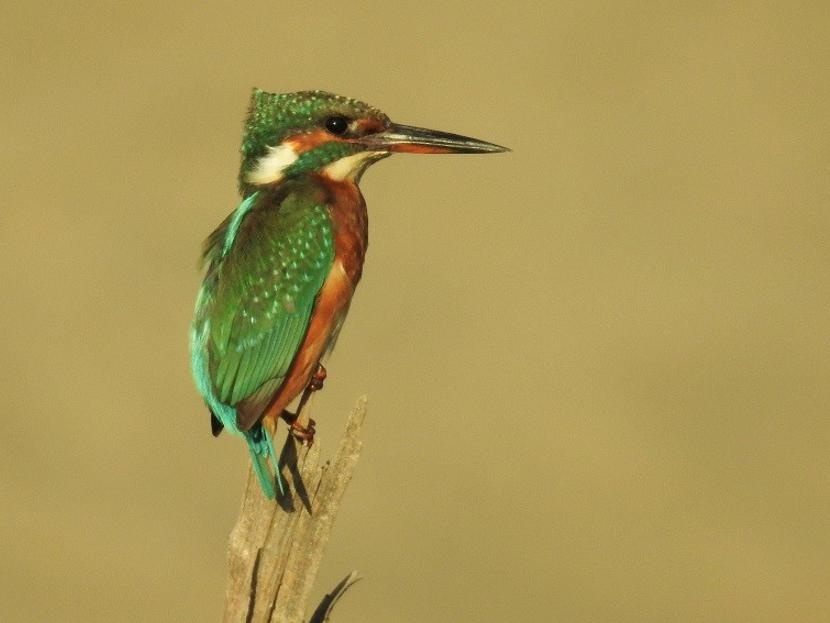kingfisher: (181, 87, 514, 516)
